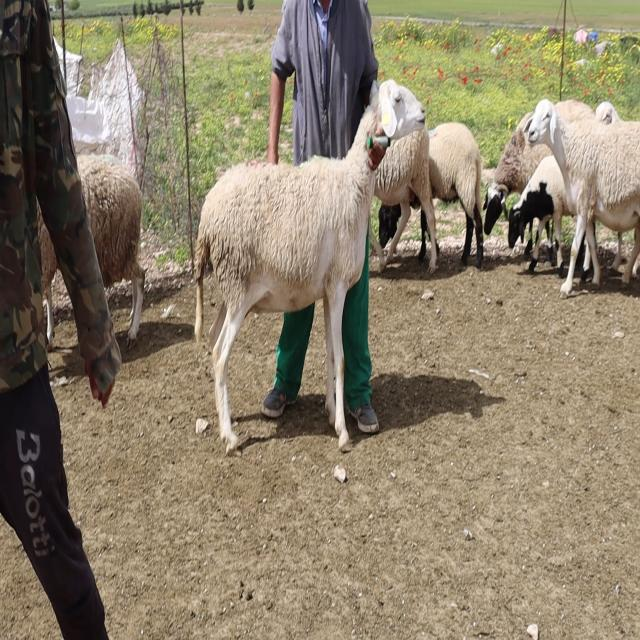Score_3: (195, 79, 426, 455)
